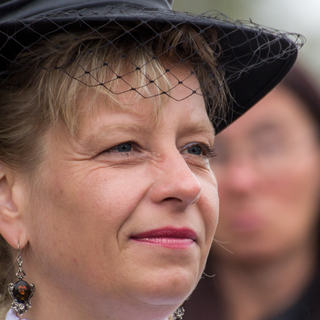eye: (96, 135, 145, 159), (176, 139, 214, 163)
